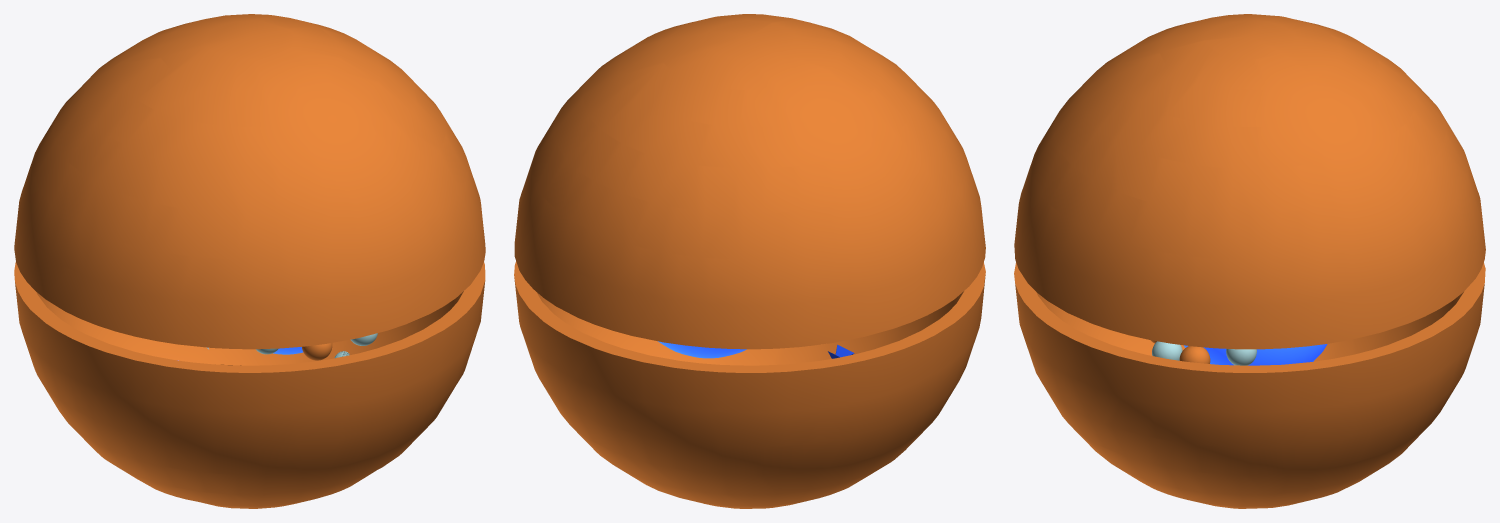
3 renders of one model, left to right at view 1: azimuth 30°, elevation 25°; view 2: azimuth 150°, elevation 25°; view 3: azimuth 270°, elevation 25°, orthographic.
Visible parts, largest first — view 1: Sphere.014, Sphere.015, Sphere.018; view 2: Sphere.014, Sphere.015, Sphere.016; view 3: Sphere.014, Sphere.015, Sphere.016, Sphere.018.
Part boxes in pixels (left/top/right/bottom): Sphere.014: left=14, top=14, right=485, bottom=349; Sphere.015: left=14, top=262, right=485, bottom=508; Sphere.018: left=256, top=333, right=377, bottom=360; Sphere.014: left=514, top=14, right=985, bottom=349; Sphere.015: left=514, top=261, right=985, bottom=508; Sphere.016: left=658, top=341, right=746, bottom=358; Sphere.014: left=1014, top=14, right=1485, bottom=349; Sphere.015: left=1014, top=262, right=1485, bottom=508; Sphere.016: left=1184, top=344, right=1327, bottom=365; Sphere.018: left=1150, top=340, right=1256, bottom=365.
Size of the model in its own units: 8.94 by 9.44 by 8.94.
